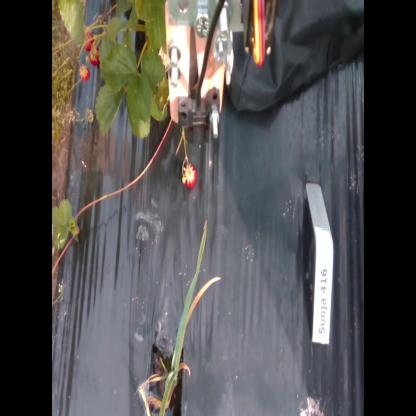ripe: (182, 162, 198, 190), (81, 34, 98, 52), (88, 44, 102, 65), (78, 68, 91, 81)
